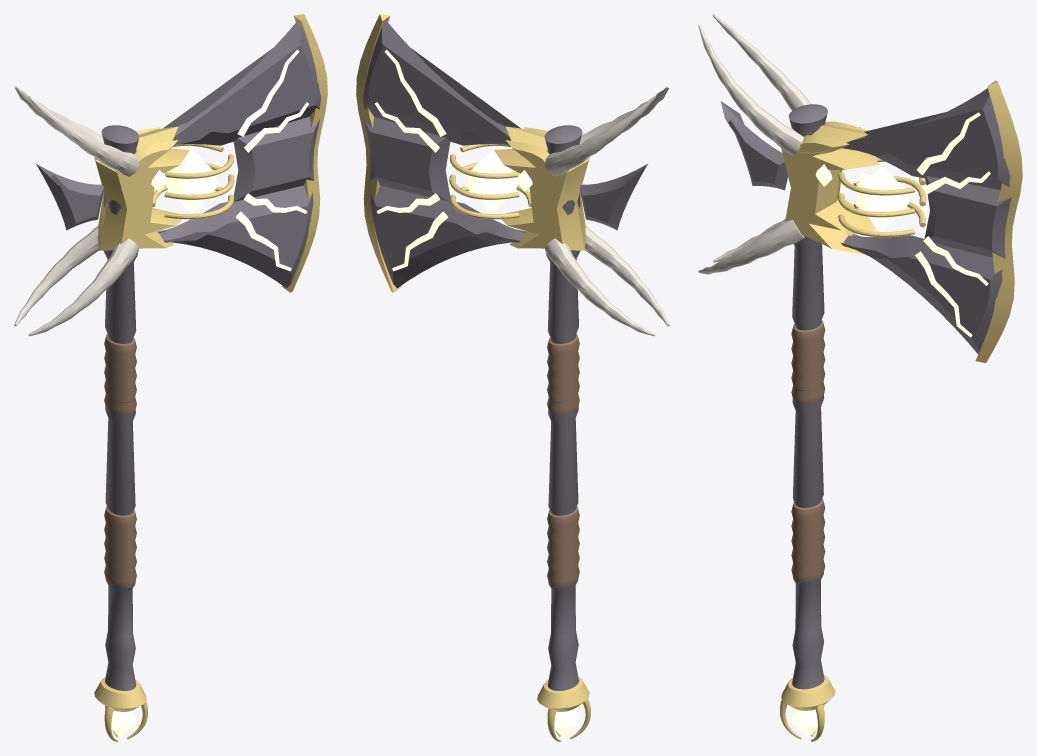
File: art_gild_wyrmheart_cleaver.fbx
3 renders of one model, left to right at view 1: azimuth 30°, elevation 25°; view 2: azimuth 150°, elevation 25°; view 3: azimuth 330°, elevation 25°, orthographic. The views are drawn at different scales.
Visible parts, largest first — view 1: Blade.002, Handle.003, DragonSkull, SkullHornBot, SkullHornTop, BladeEdge.002, GripWrapLower, GripWrapUpper, RuneInlay, BackSpike, HeartCageRing, WyrmHeart (+1 smaller); view 2: Blade.002, Handle.003, DragonSkull, SkullHornBot, SkullHornTop, BladeEdge.002, GripWrapLower, GripWrapUpper, RuneInlay, BackSpike, HeartCageRing, WyrmHeart (+1 smaller); view 3: Blade.002, Handle.003, DragonSkull, BladeEdge.002, SkullHornTop, GripWrapLower, GripWrapUpper, BackSpike, RuneInlay, HeartCageRing, SkullHornBot, WyrmHeart (+1 smaller).
Part boxes in pixels (x1=…): Blade.002: x1=156, y1=20, x2=320, y2=288; Handle.003: x1=101, y1=125, x2=139, y2=690; DragonSkull: x1=94, y1=126, x2=189, y2=250; SkullHornBot: x1=14, y1=226, x2=138, y2=336; SkullHornTop: x1=14, y1=86, x2=138, y2=176; BladeEdge.002: x1=282, y1=14, x2=327, y2=292; GripWrapLower: x1=104, y1=506, x2=136, y2=586; GripWrapUpper: x1=104, y1=334, x2=136, y2=414; RuneInlay: x1=151, y1=49, x2=308, y2=270; BackSpike: x1=36, y1=164, x2=104, y2=230; HeartCageRing: x1=152, y1=144, x2=234, y2=219; WyrmHeart: x1=165, y1=150, x2=217, y2=213; Blade.002: x1=363, y1=20, x2=527, y2=288; Handle.003: x1=544, y1=125, x2=582, y2=690; DragonSkull: x1=494, y1=126, x2=589, y2=250; SkullHornBot: x1=545, y1=226, x2=669, y2=336; SkullHornTop: x1=545, y1=86, x2=669, y2=176; BladeEdge.002: x1=356, y1=14, x2=401, y2=292; GripWrapLower: x1=547, y1=506, x2=579, y2=586; GripWrapUpper: x1=547, y1=334, x2=579, y2=414; RuneInlay: x1=375, y1=49, x2=532, y2=270; BackSpike: x1=579, y1=164, x2=647, y2=230; HeartCageRing: x1=449, y1=144, x2=531, y2=219; WyrmHeart: x1=466, y1=150, x2=518, y2=213; Blade.002: x1=841, y1=88, x2=1011, y2=354; Handle.003: x1=788, y1=104, x2=827, y2=689; DragonSkull: x1=781, y1=121, x2=879, y2=254; BladeEdge.002: x1=975, y1=80, x2=1022, y2=362; SkullHornTop: x1=698, y1=14, x2=811, y2=155; GripWrapLower: x1=791, y1=498, x2=825, y2=581; GripWrapUpper: x1=791, y1=320, x2=825, y2=403; BackSpike: x1=720, y1=101, x2=787, y2=190; RuneInlay: x1=815, y1=112, x2=990, y2=337; HeartCageRing: x1=838, y1=157, x2=926, y2=237; SkullHornBot: x1=698, y1=218, x2=804, y2=274; WyrmHeart: x1=855, y1=165, x2=909, y2=231.
Bounding box in the file's own units: 3.18 × 6.74 × 0.8249.
